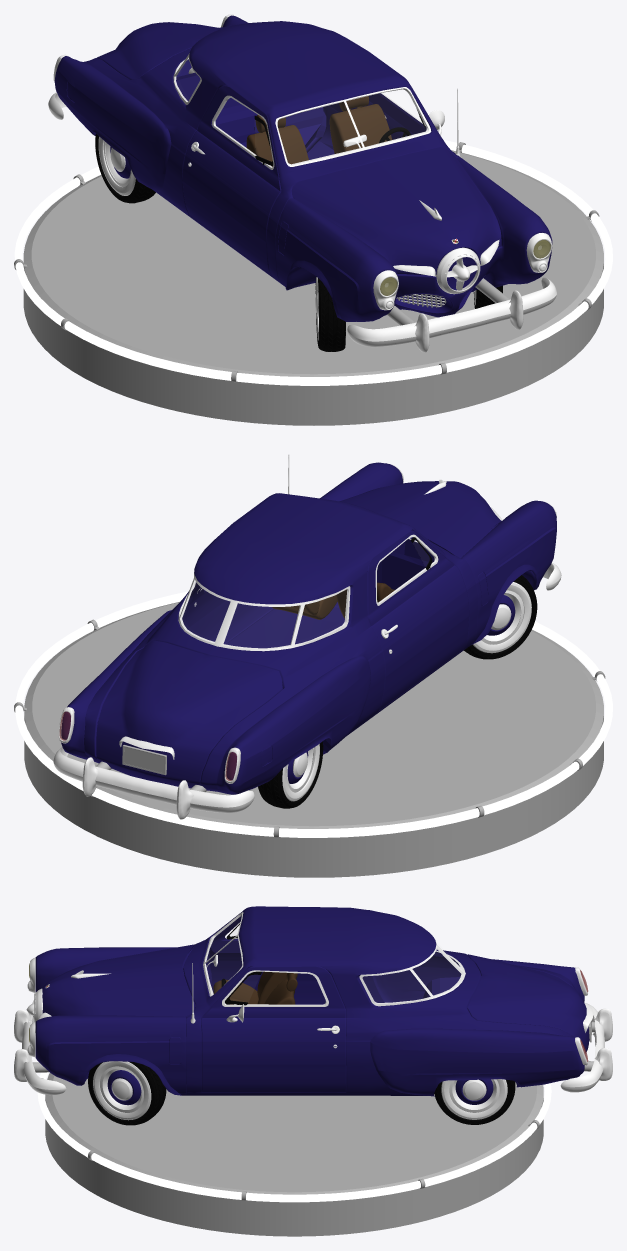
3 views of the same model, one above another, from view 1: azimuth 30°, elevation 25°; view 2: azimuth 150°, elevation 25°; view 3: azimuth 270°, elevation 25° (orthographic). The views are drawn at different scales.
Visible parts, largest first — view 1: polySurface13, pCylinder22, pasted__pTorus1, loftedSurface3, pCylinder18 (×2), pCylinder23, pasted__pCylinder11, polySurface22, polySurface10, nurbsToPoly2, pCylinder2, pCylinder15 (+1 smaller); view 2: polySurface13, pCylinder22, pasted__pTorus1, loftedSurface1, pCylinder23, nurbsToPoly1, Brake_Lights, polySurface24, License_plate, polySurface22, polySurface25; view 3: polySurface13, pCylinder22, pasted__pTorus1, pCylinder23, polySurface15, polySurface17, pCylinder18 (×2), loftedSurface1, loftedSurface3, nurbsToPoly1, nurbsToPoly2, polySurface18 (+3 smaller).
Boxes of the visible parts, left/top/right/bottom form: polySurface13: left=54, top=15, right=552, bottom=321; pCylinder22: left=23, top=150, right=603, bottom=425; pasted__pTorus1: left=14, top=140, right=612, bottom=385; loftedSurface3: left=347, top=277, right=556, bottom=347; pCylinder18 (×2): left=246, top=104, right=392, bottom=166; pCylinder23: left=95, top=134, right=155, bottom=203; pasted__pCylinder11: left=373, top=233, right=552, bottom=310; polySurface22: left=315, top=276, right=345, bottom=351; polySurface10: left=275, top=87, right=431, bottom=166; nurbsToPoly2: left=415, top=290, right=523, bottom=352; pCylinder2: left=435, top=247, right=480, bottom=294; pCylinder15: left=387, top=278, right=509, bottom=325; polySurface13: left=61, top=462, right=556, bottom=794; pCylinder22: left=24, top=602, right=603, bottom=877; pasted__pTorus1: left=15, top=591, right=612, bottom=837; loftedSurface1: left=53, top=747, right=254, bottom=813; pCylinder23: left=258, top=741, right=323, bottom=808; nurbsToPoly1: left=82, top=757, right=193, bottom=819; Brake_Lights: left=58, top=707, right=240, bottom=783; polySurface24: left=473, top=582, right=531, bottom=653; License_plate: left=122, top=745, right=166, bottom=775; polySurface22: left=464, top=575, right=537, bottom=659; polySurface25: left=481, top=590, right=523, bottom=644; polySurface13: left=35, top=906, right=589, bottom=1096; pCylinder22: left=45, top=1073, right=543, bottom=1236; pasted__pTorus1: left=37, top=1072, right=551, bottom=1202; pCylinder23: left=434, top=1079, right=515, bottom=1124; polySurface15: left=88, top=1061, right=166, bottom=1125; polySurface17: left=93, top=1061, right=151, bottom=1120; pCylinder18 (×2): left=257, top=971, right=295, bottom=1004; loftedSurface1: left=560, top=1002, right=604, bottom=1092; loftedSurface3: left=22, top=1013, right=66, bottom=1094; nurbsToPoly1: left=592, top=1008, right=612, bottom=1080; nurbsToPoly2: left=14, top=1010, right=35, bottom=1081; polySurface18: left=100, top=1066, right=143, bottom=1112.
Size of the model in its own units: 4.58 by 2 by 5.33.
14 materials, 1 textured.
